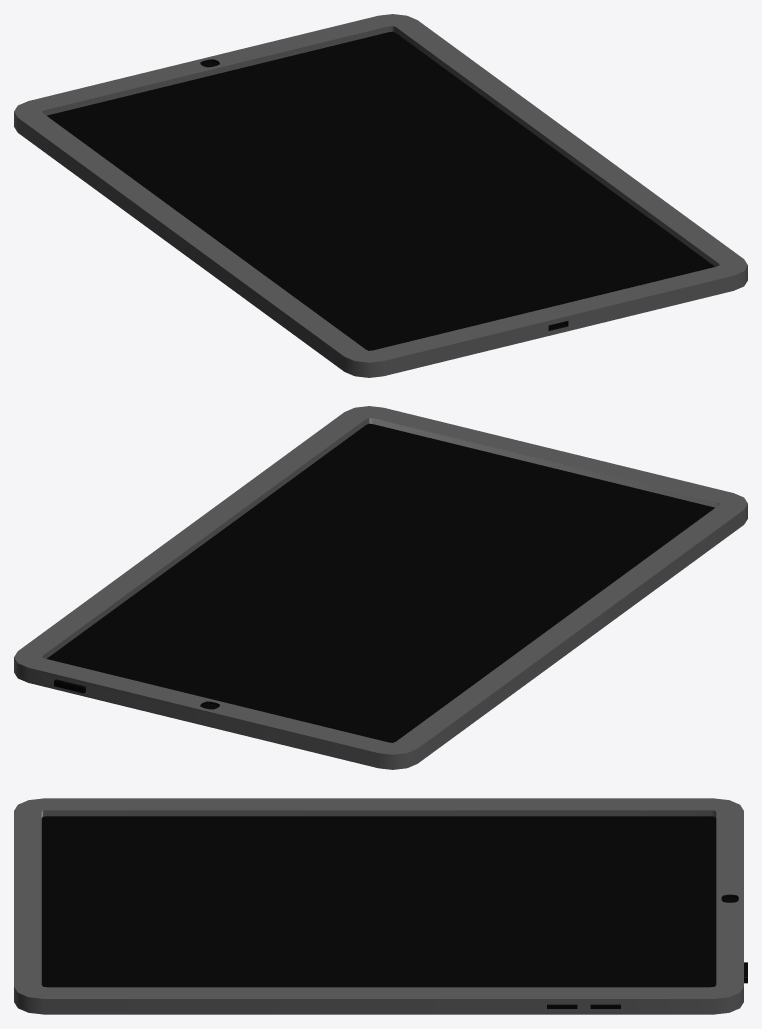
The model's file is tablet.glb.
3 renders of one model, top to bottom at view 1: azimuth 30°, elevation 25°; view 2: azimuth 150°, elevation 25°; view 3: azimuth 270°, elevation 25°, orthographic. The views are drawn at different scales.
Visible parts, largest first — view 1: Tablet; view 2: Tablet; view 3: Tablet.
Part boxes in pixels (box(x1,y1,x2,y2)): Tablet: box(14, 14, 747, 377); Tablet: box(14, 406, 747, 769); Tablet: box(14, 798, 747, 1014).
Size of the model in its own units: 0.1655 by 0.006 by 0.2554.
1 material, 1 textured.
